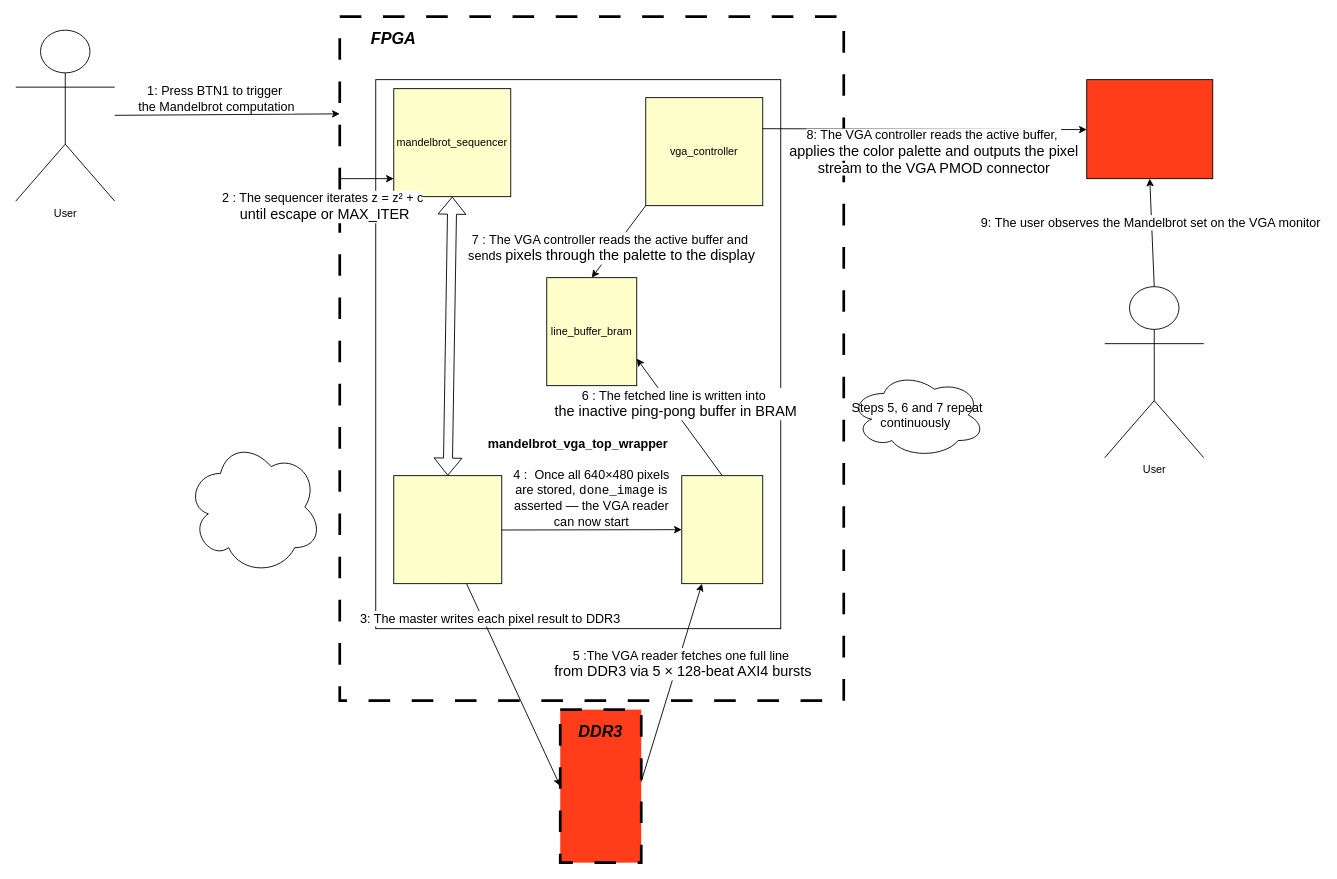
Some shapes in this 1337 by 879 pixel diagram are drawn without their labels. The shapes that lost their labels are listed below. From the top down, each one's centre as x and y in pixels, then its label:
(x=1149, y=129): VGA Monitor
(x=254, y=507): Steps 2 and 3 repeat for each pixel until the full 640×480 image is computed
(x=447, y=529): mandelbrot_master
(x=722, y=529): vga_axi_reader
